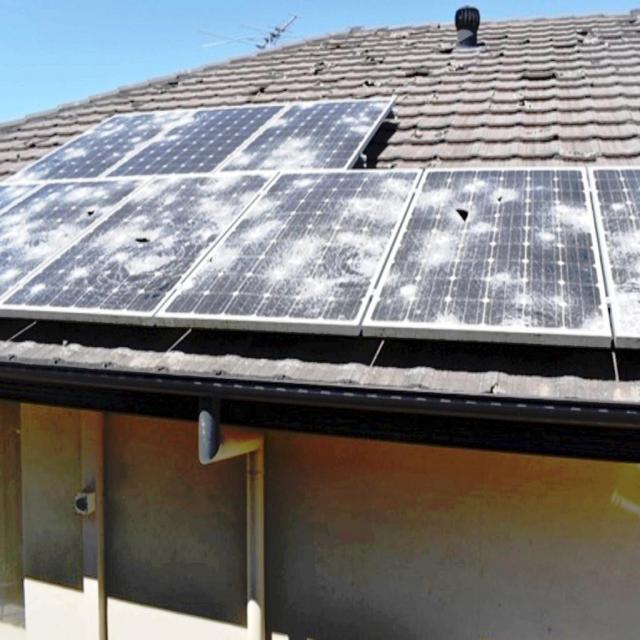faulty: (156, 168, 422, 330), (9, 168, 277, 313), (372, 171, 598, 341), (2, 180, 140, 312), (12, 114, 264, 179), (222, 97, 396, 177)
